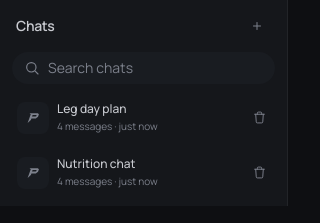
Test case: filters sessions by the search query
Expected: the text "Leg day plan" is shown, [57,100,126,117]
Type "nutri" into the field labelled "Search chats" at (156, 68), box [48,58,263,78]
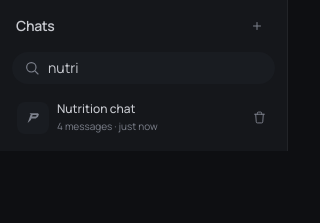
Expected: the text "Nutrition chat" is shown, [57,100,136,117]
Result: the button "Leg day plan" is gone
